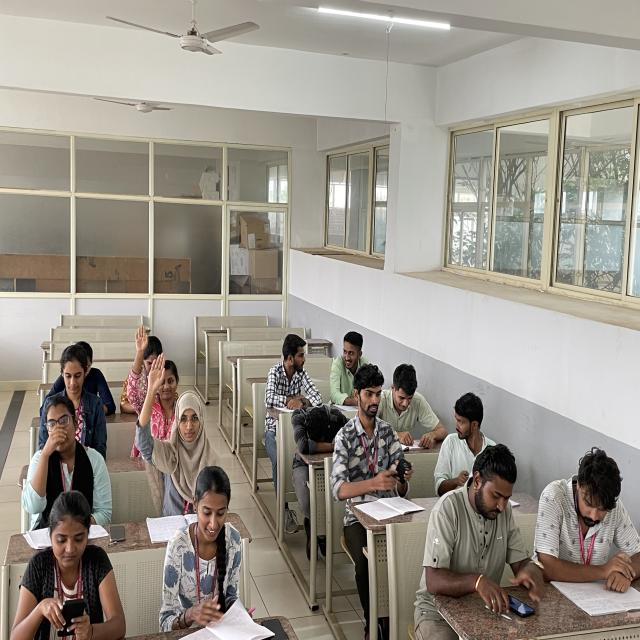Hand Rising: (143, 352, 215, 495), (123, 320, 182, 430)
Reading: (149, 457, 255, 640), (529, 449, 640, 593), (46, 345, 110, 451)
Sleeping: (288, 399, 356, 462)
Using Phone: (417, 445, 545, 618), (0, 486, 134, 640), (336, 364, 418, 508)
Writing: (377, 356, 445, 450)
